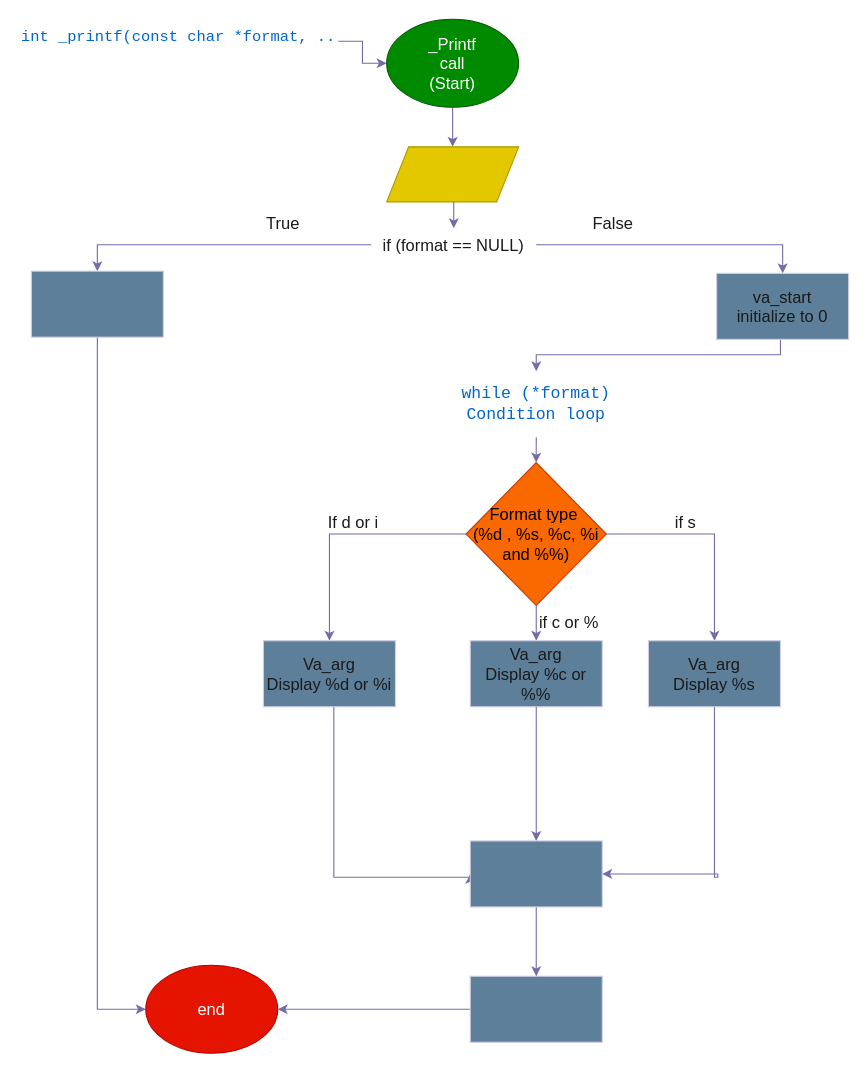
Some shapes in this 868 by 1073 pixel diagram are drawn without their labels. The centre of each missing label's shape, as x and y in pixels:
"input" goes at pixel 452 174.
"return ( -1)" goes at pixel 96 303.
"return display" goes at pixel 535 1008.
"Va_ends Clean arguments" goes at pixel 535 873.
